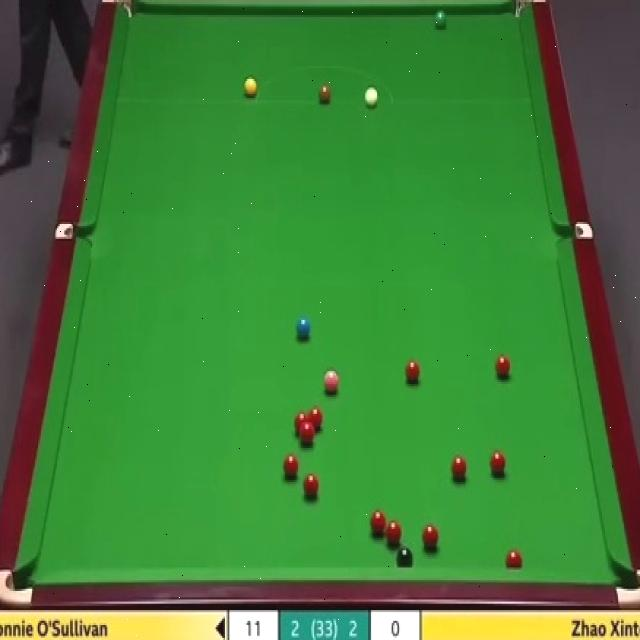black-ball: (395, 544, 414, 568)
blue-ball: (294, 316, 311, 342)
brown-ball: (316, 81, 332, 106)
green-ball: (432, 10, 449, 30)
pink-ball: (323, 366, 340, 394)
red-ball: (385, 518, 403, 550), (404, 357, 422, 387), (302, 472, 320, 501), (421, 524, 438, 552), (489, 449, 506, 477), (369, 508, 386, 536), (284, 452, 301, 479), (495, 352, 511, 380), (308, 407, 324, 434), (450, 456, 467, 481), (506, 547, 523, 569), (300, 424, 314, 446), (295, 411, 308, 433)
white-ball: (363, 84, 380, 109)
yellow-ball: (242, 76, 257, 97)
